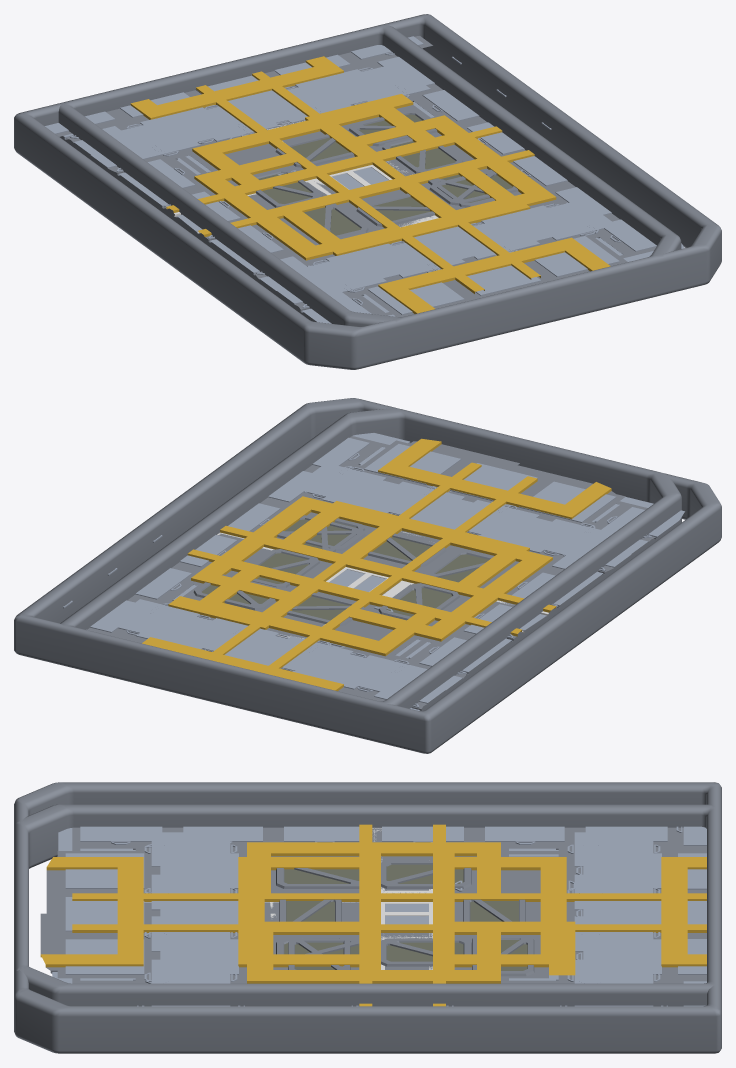
The model's file is Level2_Ground_.fbx.
3 renders of one model, top to bottom at view 1: azimuth 30°, elevation 25°; view 2: azimuth 150°, elevation 25°; view 3: azimuth 270°, elevation 25°, orthographic. The views are drawn at different scales.
Parts seen in each view (by area): view 1: Border (×2), pCube95 (×8), pCube100 (×10), pCube87 (×6), pPlane1 (×5); view 2: Border (×2), pCube95 (×8), pCube100 (×7), pCube87 (×7), pPlane1 (×5); view 3: Border (×2), pCube95 (×8), pCube100 (×10), pCube87 (×8), pPlane1 (×6).
Part boxes in pixels (bbox=[...]): Border (×2): bbox=[14, 14, 721, 369]; pCube95 (×8): bbox=[63, 71, 684, 316]; pCube100 (×10): bbox=[45, 36, 598, 323]; pCube87 (×6): bbox=[253, 110, 518, 226]; pPlane1 (×5): bbox=[258, 137, 455, 235]; Border (×2): bbox=[14, 398, 721, 753]; pCube95 (×8): bbox=[123, 433, 625, 710]; pCube100 (×7): bbox=[87, 465, 684, 693]; pCube87 (×7): bbox=[193, 515, 493, 625]; pPlane1 (×5): bbox=[257, 537, 488, 620]; Border (×2): bbox=[14, 782, 721, 1053]; pCube95 (×8): bbox=[40, 824, 706, 1006]; pCube100 (×10): bbox=[46, 826, 706, 1006]; pCube87 (×8): bbox=[276, 860, 534, 976]; pPlane1 (×6): bbox=[284, 864, 518, 961].
Bounding box in the file's own units: 410 × 36.61 × 530.
